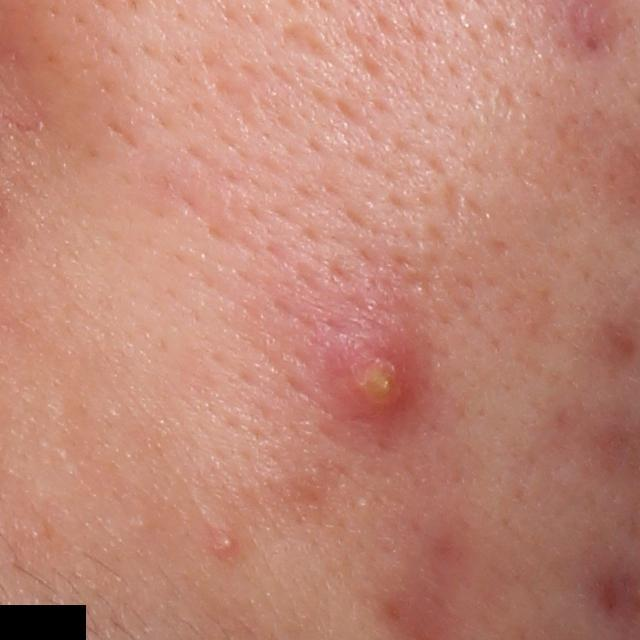atrophic_scar: (281, 25, 334, 66), (110, 119, 137, 150)
pustule: (333, 334, 430, 433)
